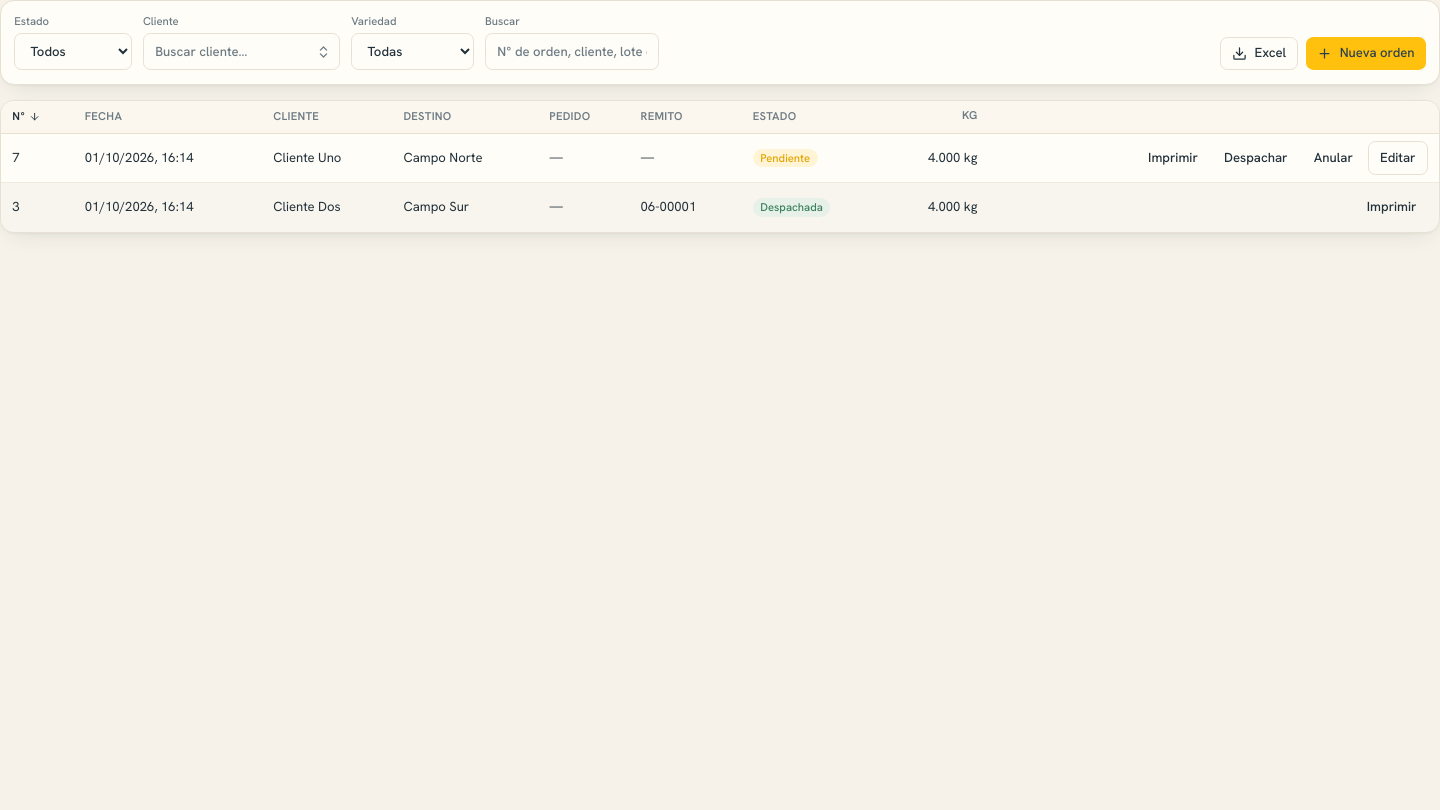
Test: OrdenesPanel › ante un 409 al despachar, el panel muestra el mensaje e invalida el stock para refrescar los máximos disponibles (R6.4/R6.7)
Click the button with aria-label "Despachar orden N° 7" at {"x": 1256, "y": 158}, box [1213,141,1299,175]
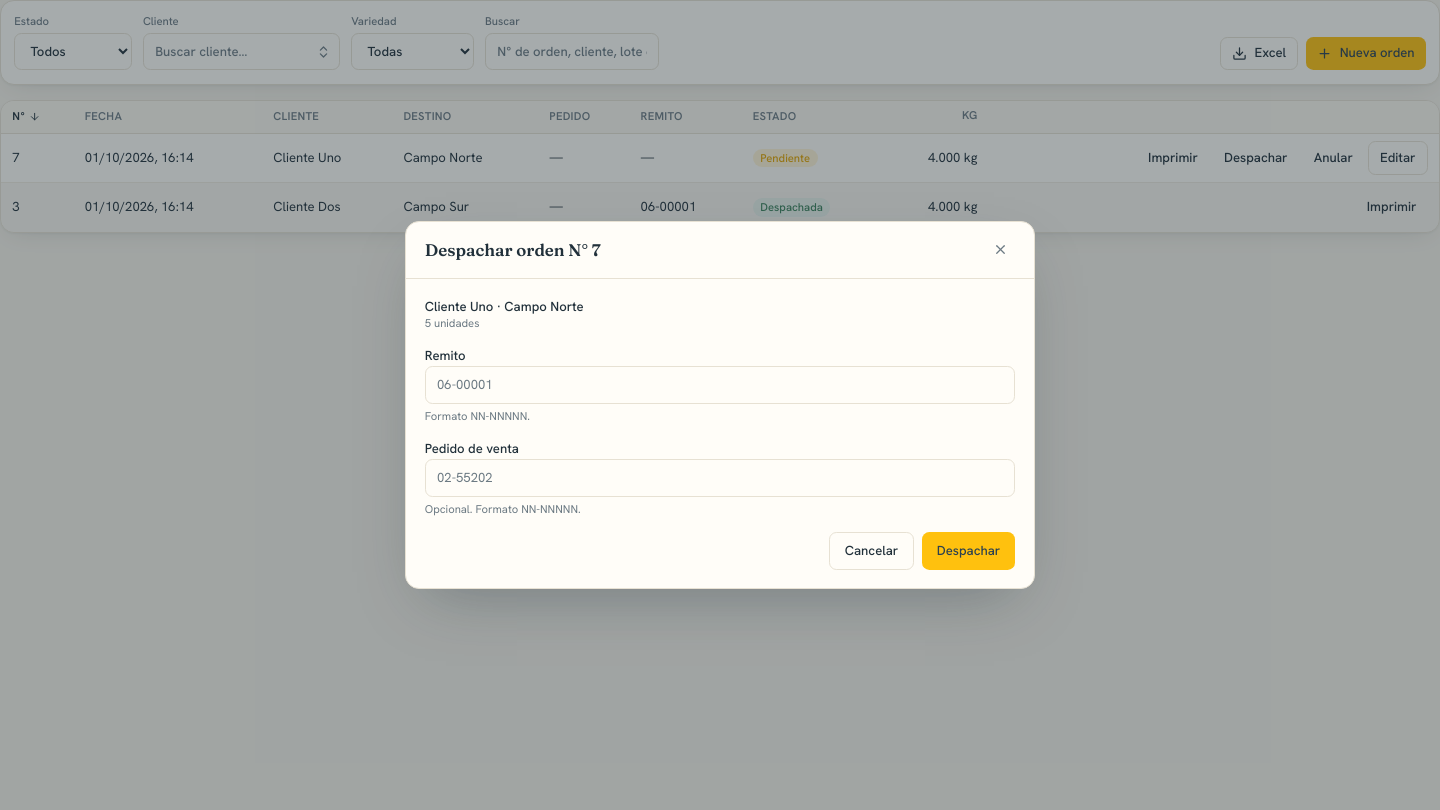
Type "6-1" into the field labelled "Remito" at {"x": 720, "y": 385}, box [425,366,1015,404]
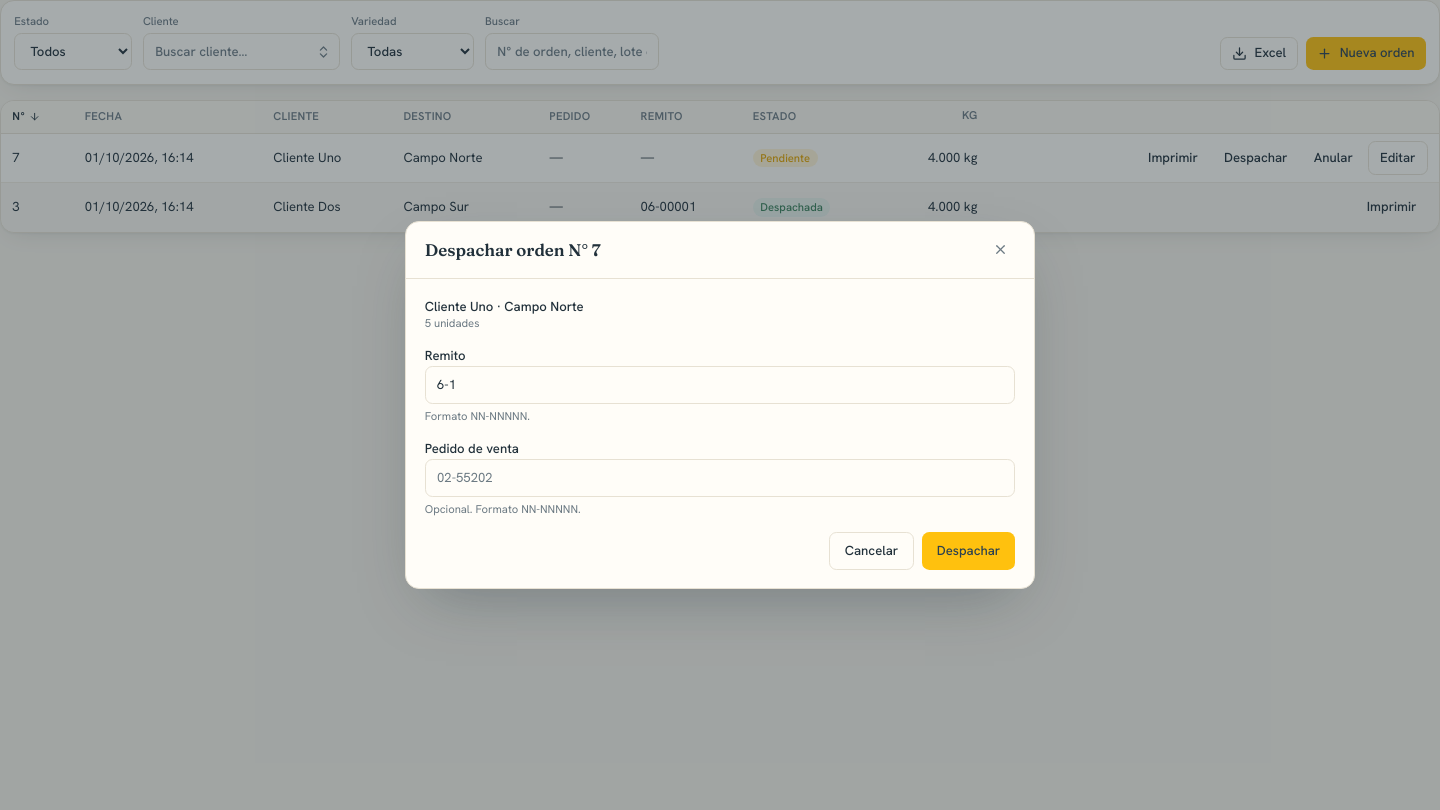
Click the button "Despachar" at {"x": 969, "y": 551}, box [922,532,1015,570]
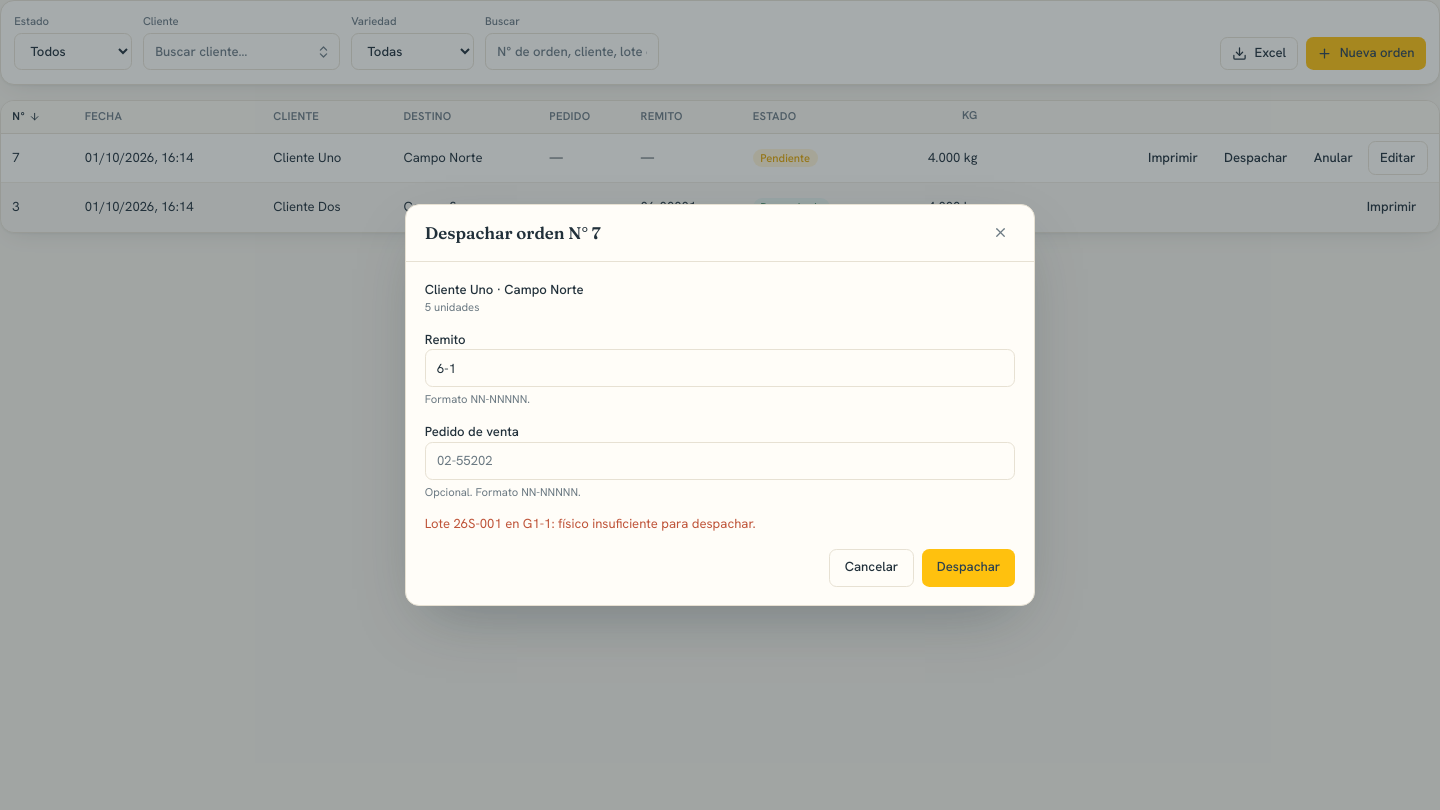
Result: the dialog is shown at [405,204,1035,606]
Result: the message shows "físico insuficiente" at [425,515,756,532]
